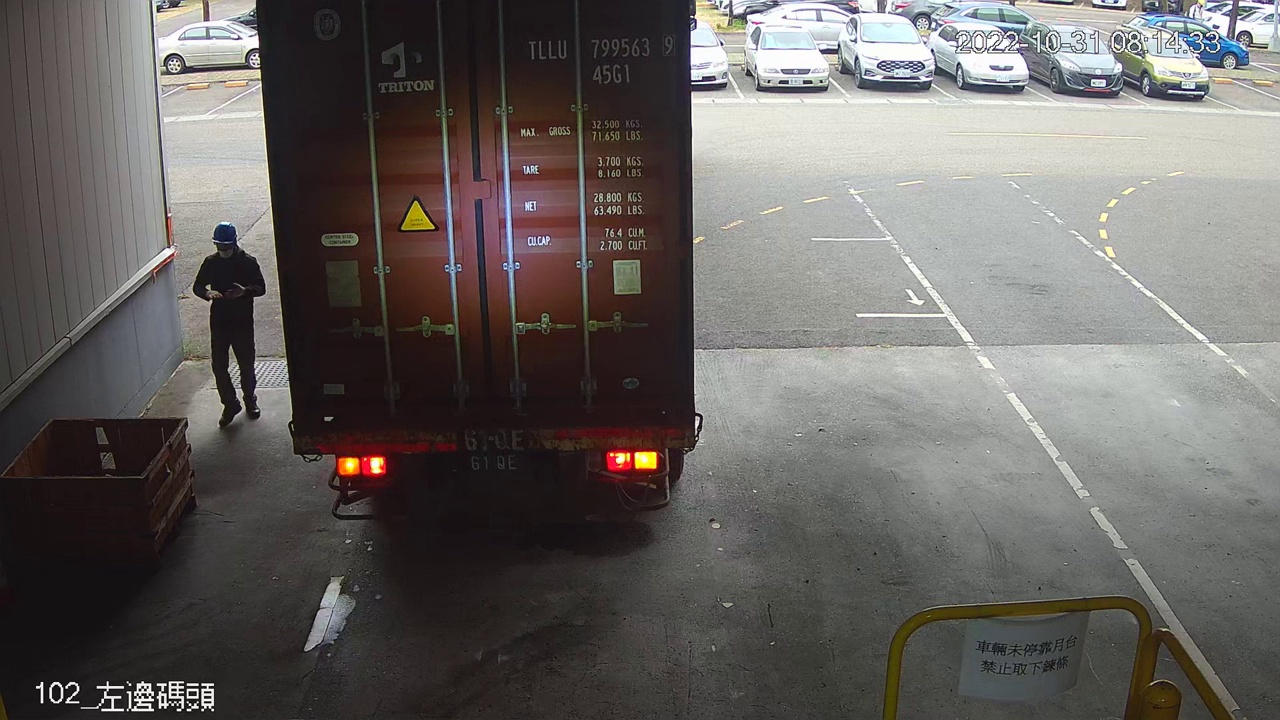container: (520, 29, 680, 90)
